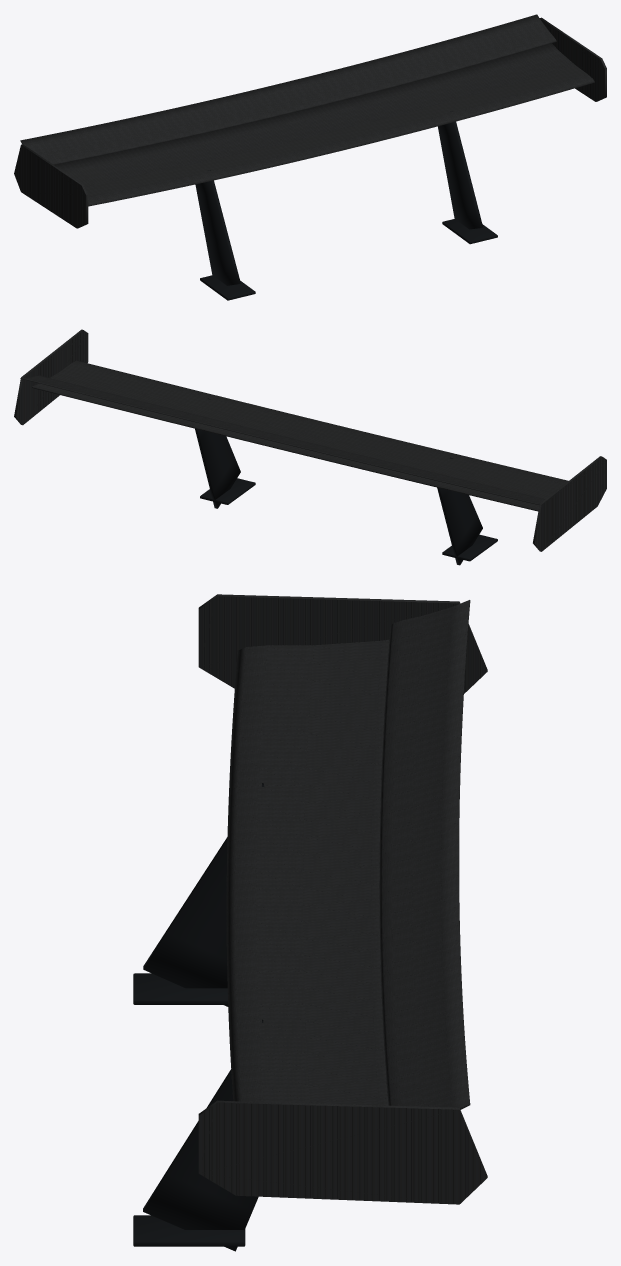
Rendered from RA60_double_element_wing.glb.
The picture shows the model from 3 angles, top to bottom: view 1: azimuth 30°, elevation 25°; view 2: azimuth 150°, elevation 25°; view 3: azimuth 270°, elevation 25°; orthographic projection. The views are drawn at different scales.
Visible parts, largest first — view 1: MOD_NA_RA60_main, MOD_NA_RA60_flap, MOD_NA_RA60_endplate_R, MOD_NA_RA60_upright_L, MOD_NA_RA60_upright_R, MOD_NA_RA60_endplate_L, MOD_NA_RA60_foot_R, MOD_NA_RA60_foot_L; view 2: MOD_NA_RA60_main, MOD_NA_RA60_flap, MOD_NA_RA60_endplate_R, MOD_NA_RA60_endplate_L, MOD_NA_RA60_upright_L, MOD_NA_RA60_upright_R, MOD_NA_RA60_foot_R, MOD_NA_RA60_foot_L; view 3: MOD_NA_RA60_main, MOD_NA_RA60_flap, MOD_NA_RA60_endplate_L, MOD_NA_RA60_endplate_R, MOD_NA_RA60_upright_R, MOD_NA_RA60_upright_L, MOD_NA_RA60_foot_L, MOD_NA_RA60_foot_R.
Part boxes in pixels (x1,y1,x2,y2): MOD_NA_RA60_main: (54, 43, 594, 206); MOD_NA_RA60_flap: (20, 14, 556, 164); MOD_NA_RA60_endplate_R: (14, 144, 88, 228); MOD_NA_RA60_upright_L: (438, 111, 482, 229); MOD_NA_RA60_upright_R: (195, 170, 240, 285); MOD_NA_RA60_endplate_L: (539, 17, 606, 101); MOD_NA_RA60_foot_R: (200, 275, 255, 300); MOD_NA_RA60_foot_L: (442, 219, 497, 244); MOD_NA_RA60_main: (32, 360, 568, 511); MOD_NA_RA60_flap: (20, 375, 545, 505); MOD_NA_RA60_endplate_R: (533, 456, 606, 551); MOD_NA_RA60_endplate_L: (14, 329, 88, 425); MOD_NA_RA60_upright_L: (195, 398, 240, 508); MOD_NA_RA60_upright_R: (437, 457, 482, 565); MOD_NA_RA60_foot_R: (442, 534, 497, 561); MOD_NA_RA60_foot_L: (200, 478, 255, 504); MOD_NA_RA60_main: (226, 639, 389, 1105); MOD_NA_RA60_flap: (379, 600, 470, 1109); MOD_NA_RA60_endplate_L: (198, 1100, 487, 1204); MOD_NA_RA60_endplate_R: (198, 594, 487, 693); MOD_NA_RA60_upright_R: (143, 783, 264, 1006); MOD_NA_RA60_upright_L: (143, 1019, 263, 1251); MOD_NA_RA60_foot_L: (133, 1215, 245, 1246); MOD_NA_RA60_foot_R: (133, 973, 228, 1004).
Size of the model in its own units: 1.29 by 0.3354 by 0.38.
2 materials, 1 textured.
